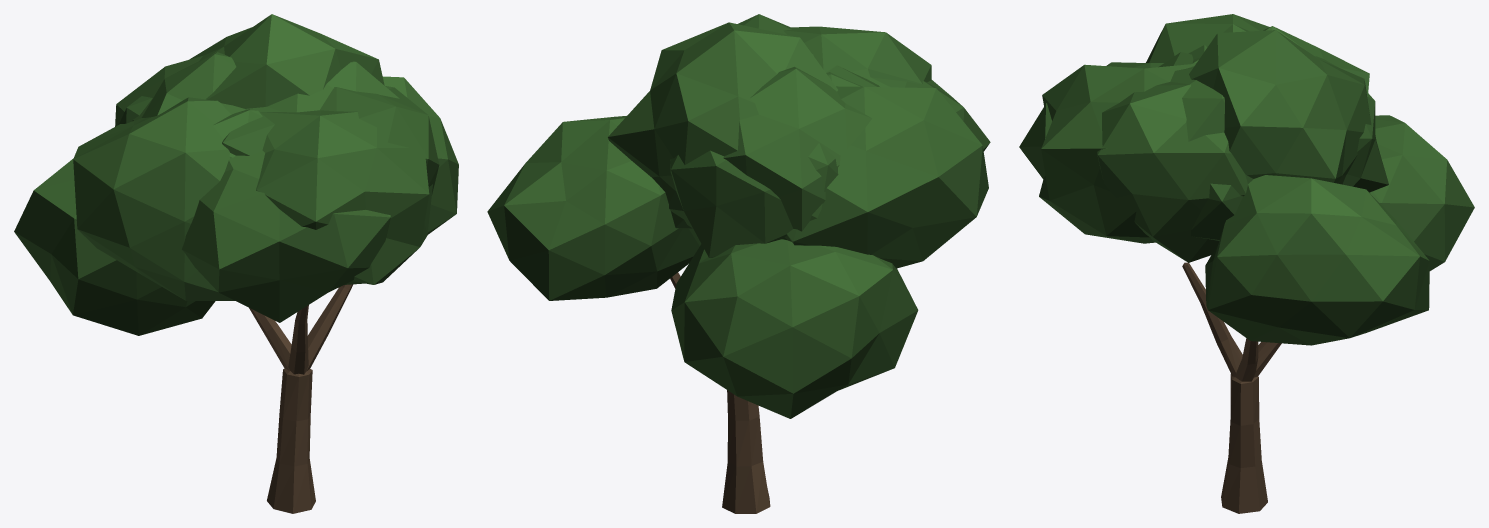
Rendered from native-broadleaf.glb.
3 renders of one model, left to right at view 1: azimuth 30°, elevation 25°; view 2: azimuth 150°, elevation 25°; view 3: azimuth 270°, elevation 25°, orthographic. The views are drawn at different scales.
Visible parts, largest first — view 1: native-broadleaf; view 2: native-broadleaf; view 3: native-broadleaf.
Boxes of the visible parts, x1,y1,x2,y2 form: native-broadleaf: (14,14,458,513); native-broadleaf: (487,14,990,513); native-broadleaf: (1019,14,1474,513).
Size of the model in its own units: 9.71 by 10.99 by 9.62.
